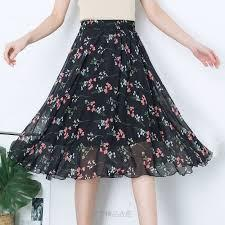skirt: (19, 22, 214, 183)
